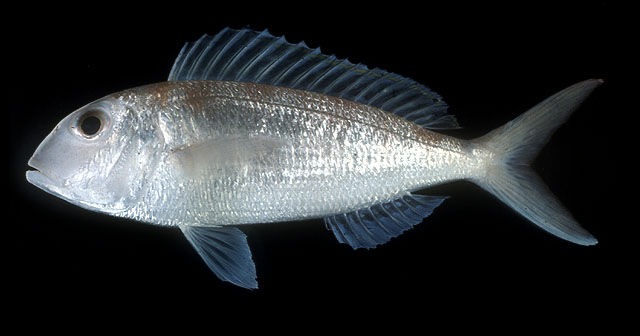fish: (25, 26, 605, 291)
